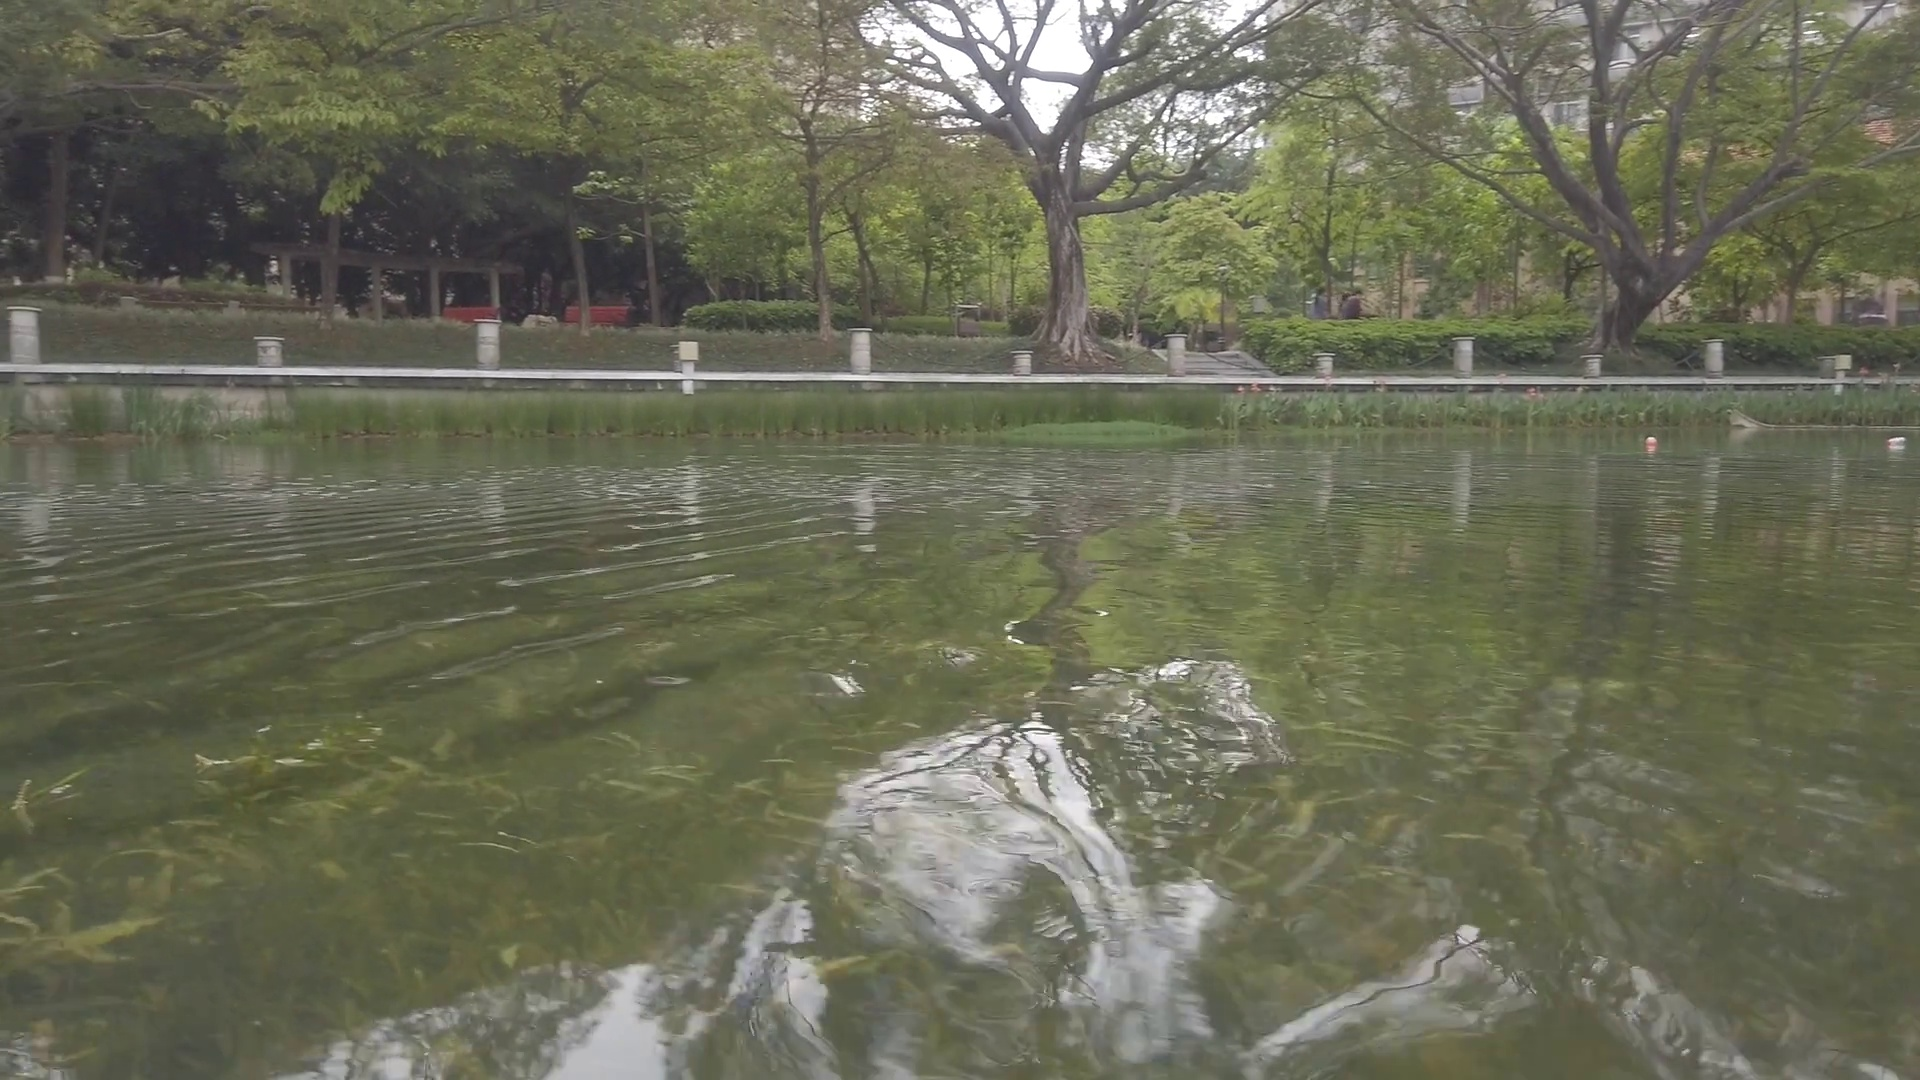bottle: (1887, 436, 1907, 447), (1644, 435, 1658, 444)
